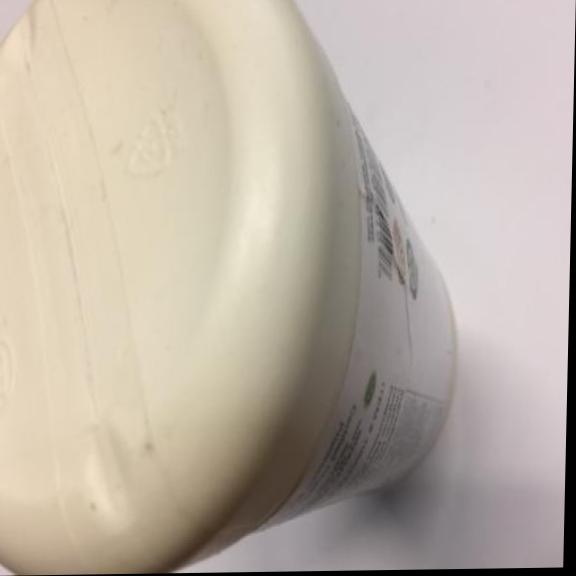Plastik: (0, 0, 472, 573)
